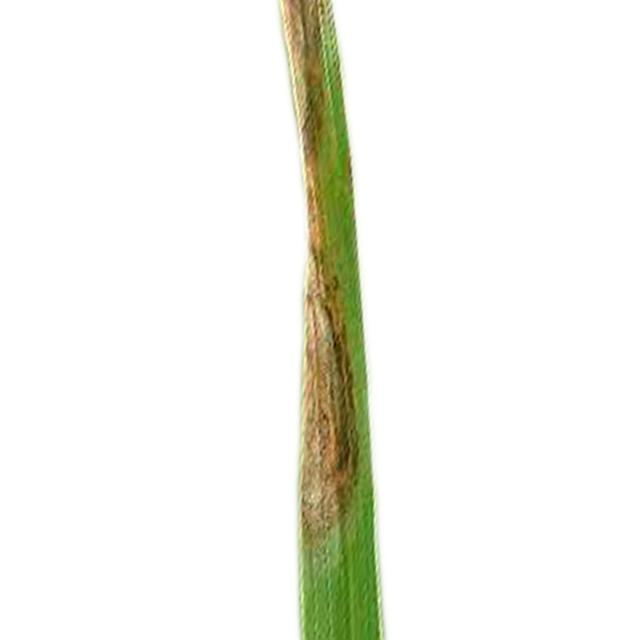Leaf scald: (181, 0, 532, 640)
